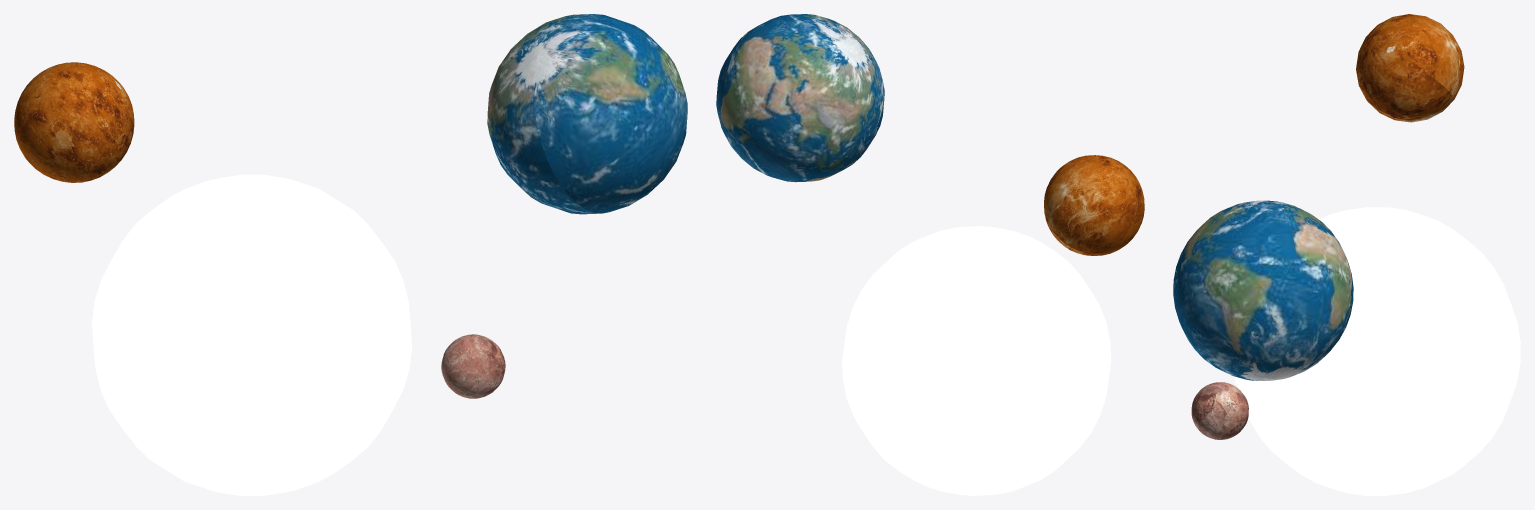
File: TestAnimation.glb
3 renders of one model, left to right at view 1: azimuth 30°, elevation 25°; view 2: azimuth 150°, elevation 25°; view 3: azimuth 270°, elevation 25°, orthographic. The views are drawn at different scales.
Visible parts, largest first — view 1: sun.001, earth.001, venus.001, mercury.001; view 2: sun.001, earth.001, venus.001; view 3: sun.001, earth.001, venus.001, mercury.001.
Part boxes in pixels (left/top/right/bottom): sun.001: left=92, top=174, right=412, bottom=495; earth.001: left=487, top=14, right=687, bottom=214; venus.001: left=14, top=62, right=134, bottom=182; mercury.001: left=441, top=334, right=505, bottom=398; sun.001: left=842, top=226, right=1111, bottom=495; earth.001: left=716, top=14, right=884, bottom=182; venus.001: left=1044, top=155, right=1144, bottom=255; sun.001: left=1234, top=207, right=1520, bottom=495; earth.001: left=1173, top=200, right=1353, bottom=380; venus.001: left=1356, top=14, right=1464, bottom=122; mercury.001: left=1191, top=382, right=1248, bottom=439.
Size of the model in its own units: 0.568 by 0.4166 by 0.3333.
4 materials, 3 textured.
